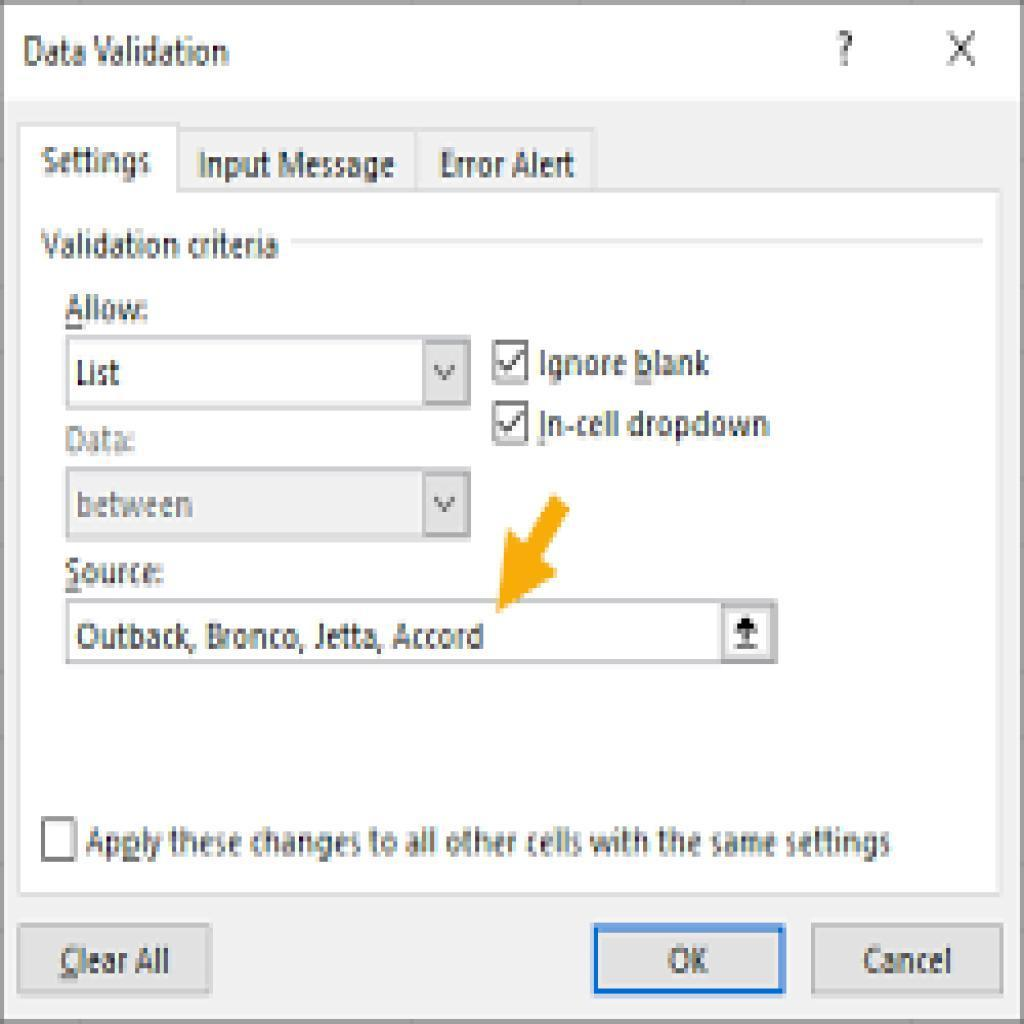button: (17, 924, 213, 998), (812, 927, 1000, 996), (595, 930, 786, 996)
checkbox: (491, 339, 532, 389), (494, 401, 533, 445), (41, 819, 80, 859)
dropdown: (67, 335, 471, 408), (69, 469, 469, 538)
input: (71, 602, 722, 663)
